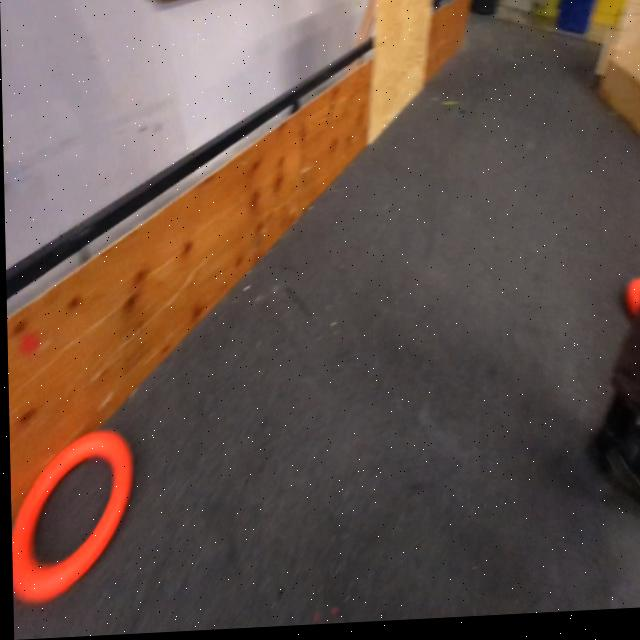note: (7, 424, 134, 608)
